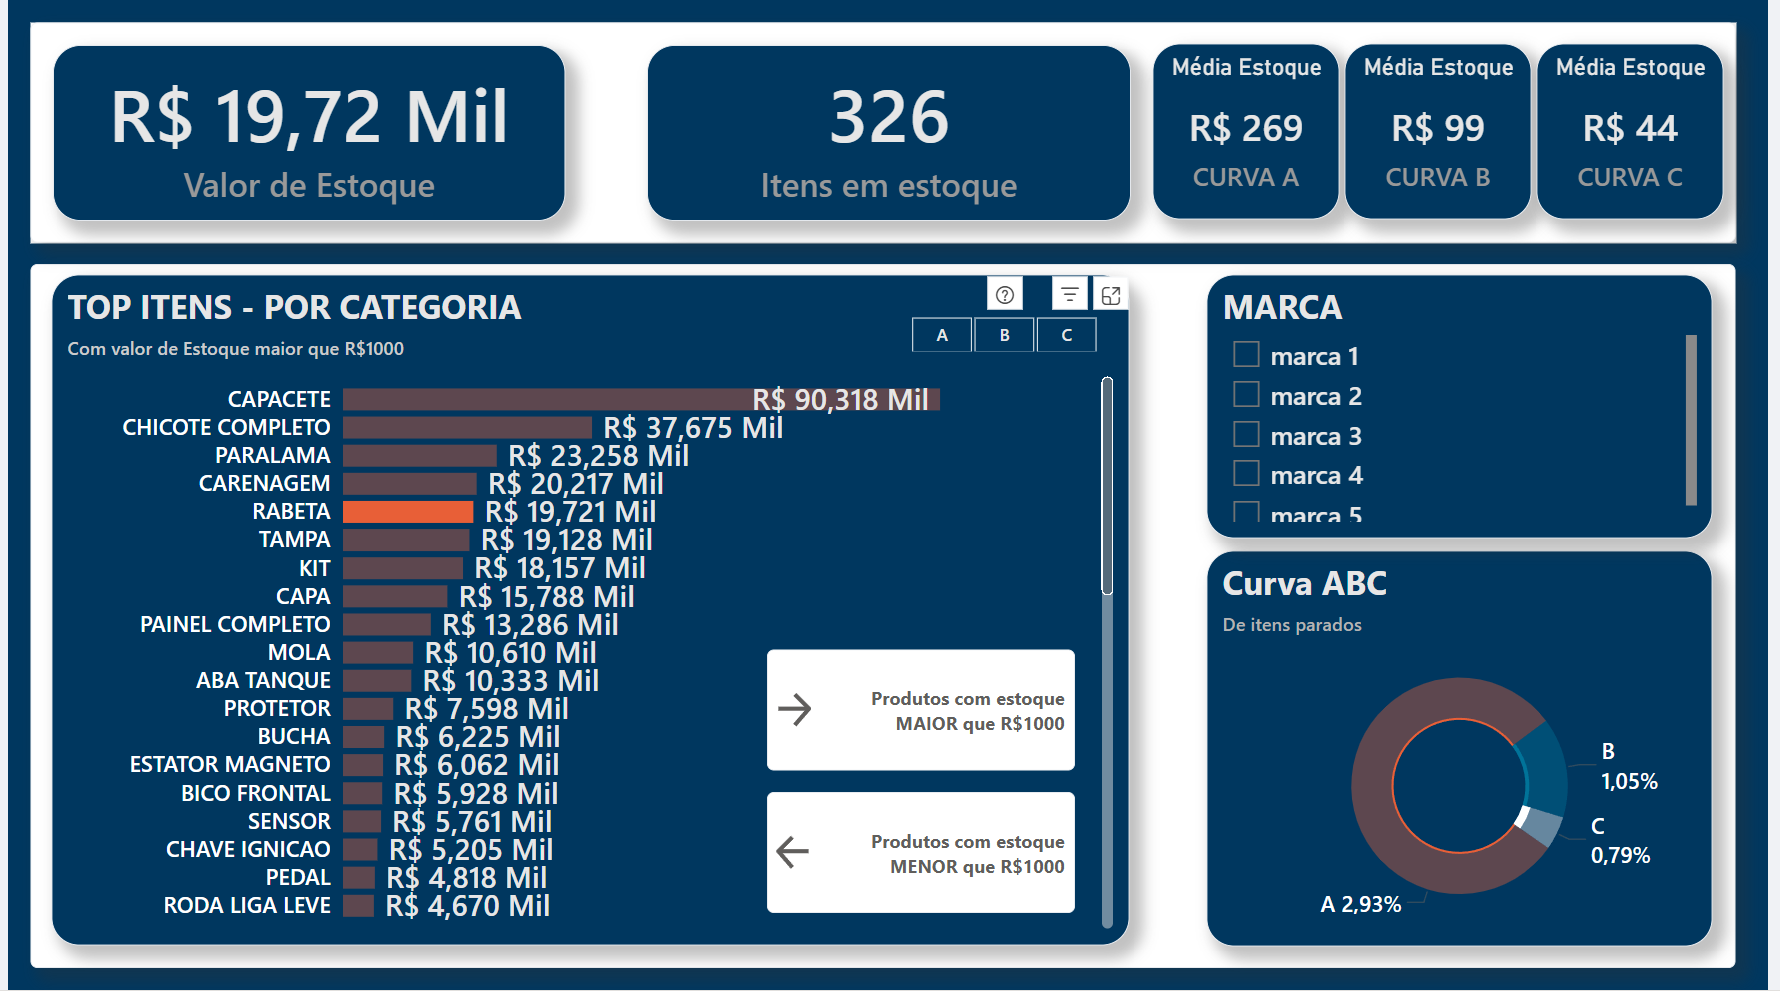

Layout of this report page (visuals, bound fields, positions):
{"tool":"powerbi","page":{"name":"Resumo Executivo","canvas":[1280,720],"ordinal":0},"visuals":[{"type":"group","id":"g1","title":"Grupo 2","box":[16,16,1240,160],"z":0,"group":"g2"},{"type":"card","title":"Valor médio de estoque  Curva","fields":{"Values":["Sum(Medidas.null)"]},"box":[16,16,1240,160],"z":0,"group":"g1"},{"type":"card","fields":{"Values":["Sum(Medidas.null)"]},"box":[16,192,1240,512],"z":0},{"type":"card","title":"Estoque Parado","fields":{"Values":["Sum(Dim_produto.VALOREST)"]},"box":[32.2,32,372.8,128],"z":1000,"group":"g1"},{"type":"barChart","title":"TOP ITENS - POR CATEGORIA","fields":{"Category":["Dim_produto.DESCRIÇÃO REDUZIDA"],"Y":["Sum(Dim_produto.VALOREST)"]},"box":[32,200,784,488],"z":1000},{"type":"pieChart","title":"Curva ABC","fields":{"Category":["Dim_produto.// Coluna Calculada na Dim_ProdutoClassificação ABC"],"Y":["Sum(Dim_produto.VALOREST)"]},"box":[872,400,368,288],"z":2000},{"type":"card","fields":{"Values":["Sum(Dim_produto.EST)"]},"box":[464,32,352,128],"z":3000,"group":"g1"},{"type":"actionButton","box":[552,576,224,88],"z":3000},{"type":"slicer","title":"MARCA","fields":{"Values":["Dim_produto.MARCA"]},"box":[872,200,368,192],"z":4000},{"type":"group","id":"g2","title":"Grupo 1","box":[16,16,1240,160],"z":5000},{"type":"card","title":"Média Estoque","fields":{"Values":["Medidas.Ticket Médio Curva A"]},"box":[832,32,136,128],"z":6000},{"type":"card","title":"Média Estoque","fields":{"Values":["Medidas.Ticket Médio Curva B"]},"box":[972,32,136,128],"z":7000},{"type":"card","title":"Média Estoque","fields":{"Values":["Medidas.Ticket Médio Curva C"]},"box":[1112,32,136,128],"z":8000},{"type":"actionButton","box":[552,472,224,88],"z":9000},{"type":"slicer","title":"Categoria","fields":{"Values":["Dim_produto.CURVA ABC"]},"box":[632,224,184,32],"z":9500}]}

Visuals, with their boxes in screenshot pixels (x1, y1, x2, y2), scaled from the page's 1280x720 canvas onto the 1780x991 screenshot:
"Grupo 2" group: 22,22,1747,242
"Valor médio de estoque  Curva" card: 22,22,1747,242
card - Sum(Medidas.null): 22,264,1747,969
"Estoque Parado" card: 45,44,563,220
"TOP ITENS - POR CATEGORIA" barChart: 44,275,1135,947
"Curva ABC" pieChart: 1213,551,1724,947
card - Sum(Dim_produto.EST): 645,44,1135,220
actionButton: 768,793,1079,914
"MARCA" slicer: 1213,275,1724,540
"Grupo 1" group: 22,22,1747,242
"Média Estoque" card: 1157,44,1346,220
"Média Estoque" card: 1352,44,1541,220
"Média Estoque" card: 1546,44,1736,220
actionButton: 768,650,1079,771
"Categoria" slicer: 879,308,1135,352
